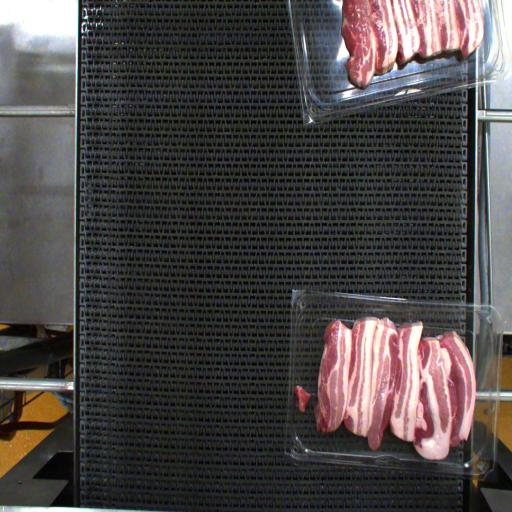loose-meat: (289, 373, 316, 416)
